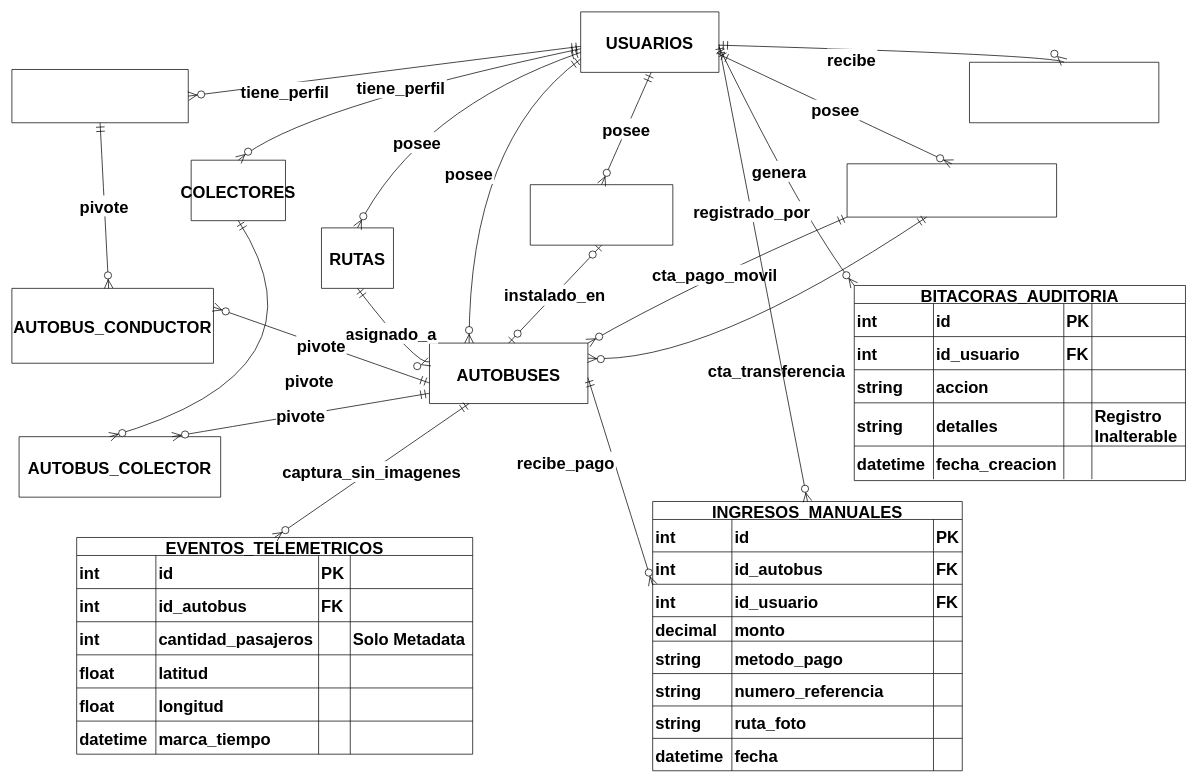
This 1197x783 diagram has some shape labels left out. The centre of each missing label's shape, as x and y in pixels:
"ALERTAS_SISTEMA" belongs at pixel 1064 92.
"CONDUCTORES" belongs at pixel 99 96.
"CUENTAS_BANCARIAS" belongs at pixel 951 190.
"DISPOSITIVOS" belongs at pixel 601 214.
